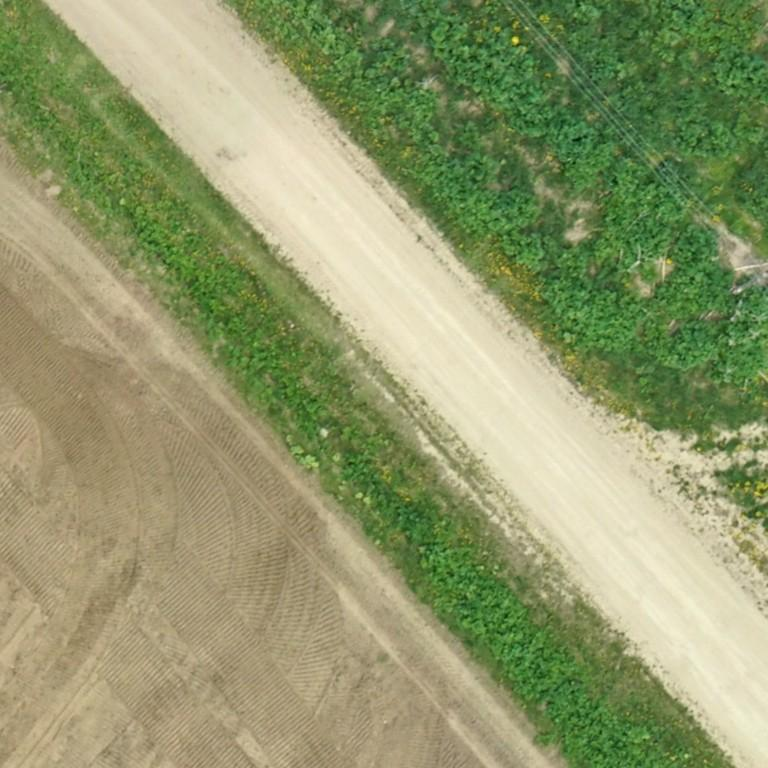hogweed: (303, 0, 767, 386), (394, 502, 678, 767), (524, 0, 767, 104), (673, 93, 763, 161), (608, 82, 666, 137), (737, 158, 767, 224)
